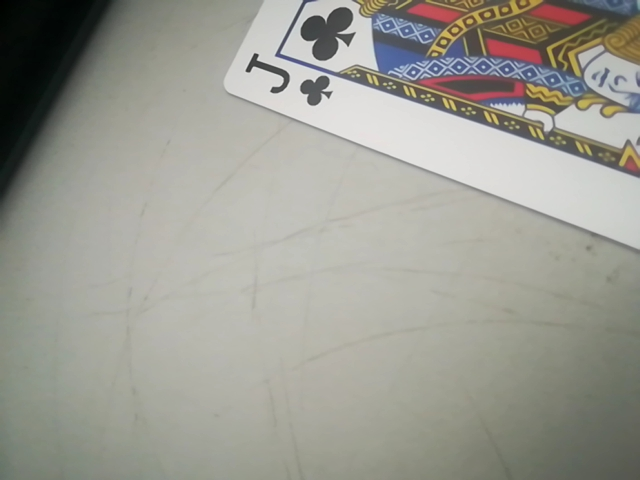mh j: (217, 1, 638, 260)
